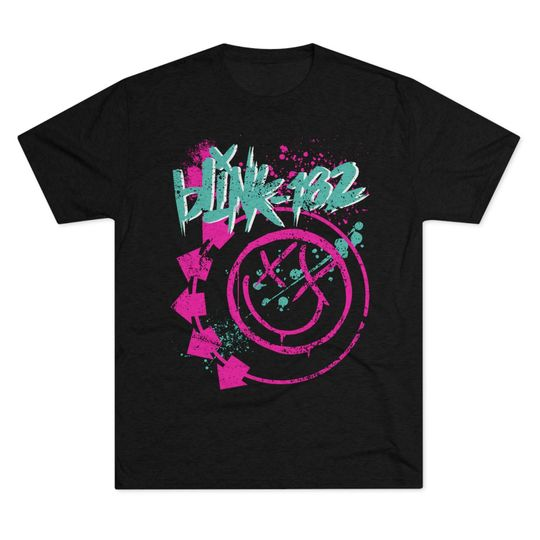design: (168, 134, 373, 392)
